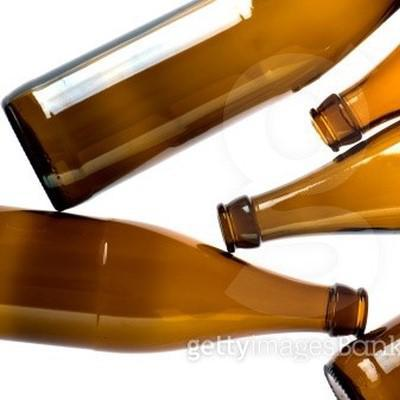beer: (2, 1, 400, 354)
